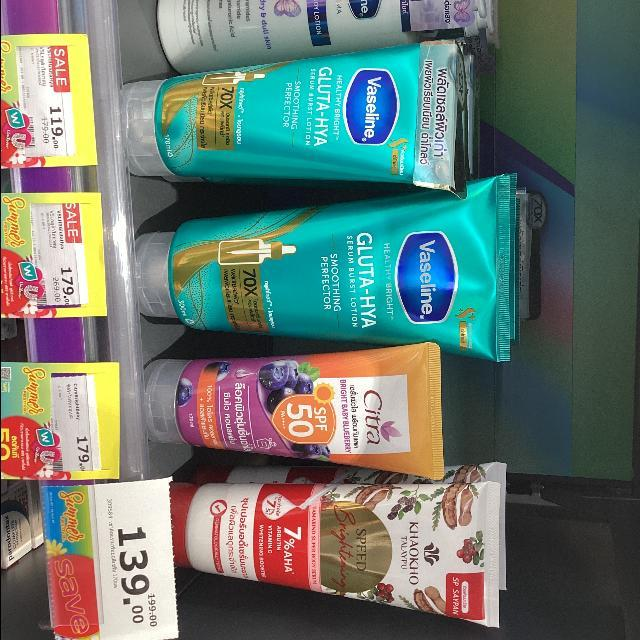Squeeze Tube: (101, 3, 569, 640), (122, 171, 519, 355), (122, 40, 462, 205), (169, 477, 505, 631), (144, 326, 453, 483)
